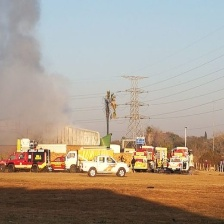smoke: (1, 1, 75, 150)
